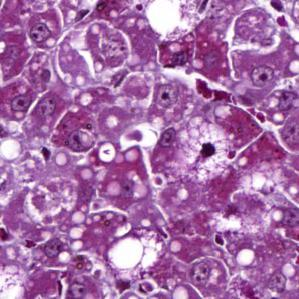ballooning: (173, 118, 237, 185)
